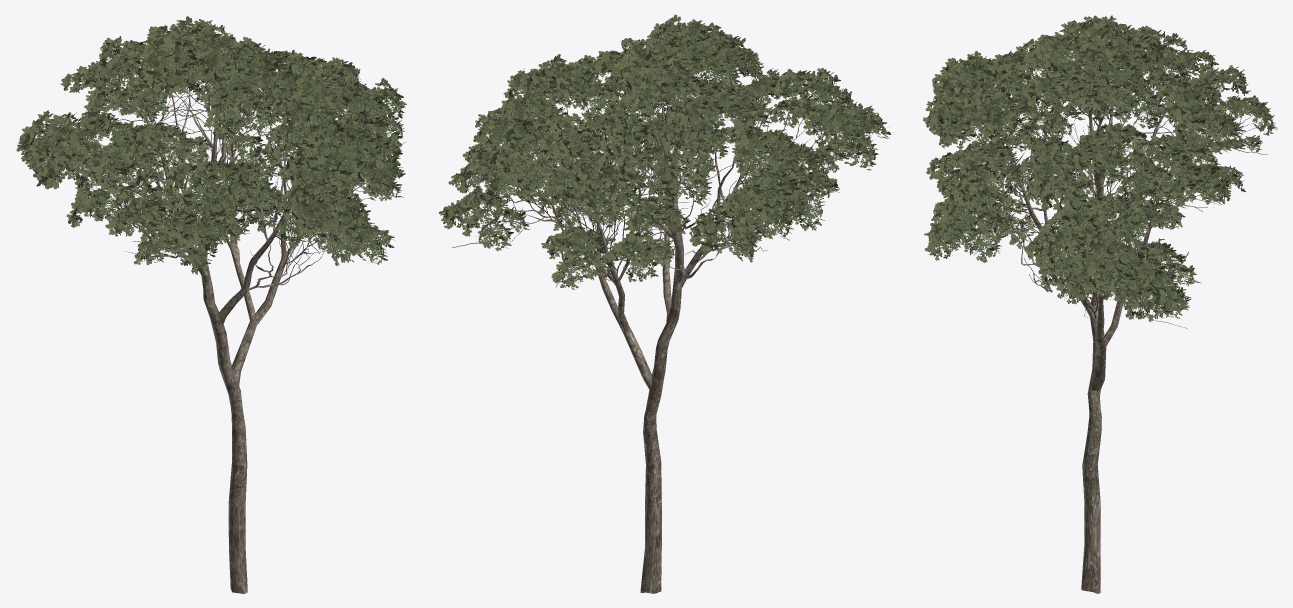
File: jungle_tree.glb
The picture shows the model from 3 angles, left to right: view 1: azimuth 30°, elevation 25°; view 2: azimuth 150°, elevation 25°; view 3: azimuth 270°, elevation 25°; orthographic projection. The views are drawn at different scales.
Visible parts, largest first — view 1: Mesh_LEAFS_0, Mesh_trunk_0, Mesh_branches_0; view 2: Mesh_LEAFS_0, Mesh_trunk_0, Mesh_branches_0; view 3: Mesh_LEAFS_0, Mesh_trunk_0, Mesh_branches_0.
Boxes of the visible parts, x1,y1,x2,y2 form: Mesh_LEAFS_0: (16,16,406,274); Mesh_trunk_0: (56,58,324,593); Mesh_branches_0: (65,66,383,276); Mesh_LEAFS_0: (439,14,891,289); Mesh_trunk_0: (519,76,782,593); Mesh_branches_0: (452,67,837,278); Mesh_LEAFS_0: (923,15,1277,321); Mesh_trunk_0: (976,39,1215,593); Mesh_branches_0: (967,29,1267,328).
Bounding box in the file's own units: 15.48 × 23.28 × 13.64.
Materials: 3 (3 with a texture image).
